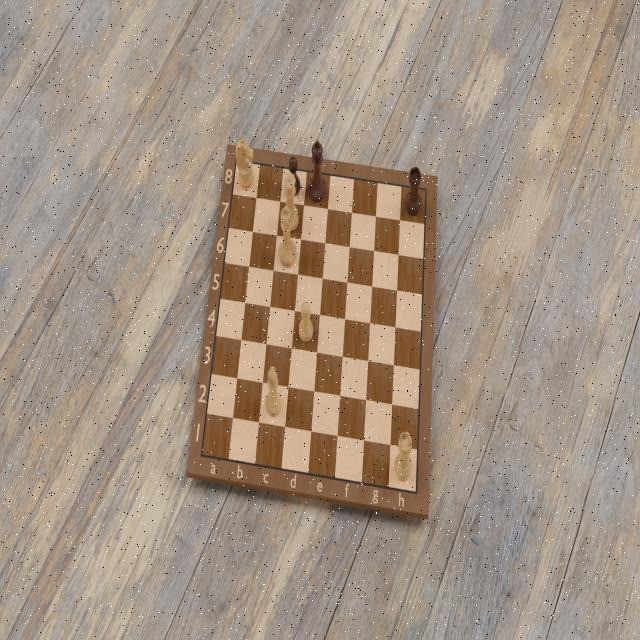black-king: (308, 139, 328, 204)
black-pawn: (286, 154, 302, 196)
black-rook: (405, 164, 423, 216)
white-bishop: (265, 365, 283, 419)
white-king: (278, 204, 298, 269)
white-knight: (235, 138, 255, 190)
white-pawn: (297, 300, 314, 343)
white-queen: (280, 173, 299, 233)
white-rook: (393, 429, 413, 482)
